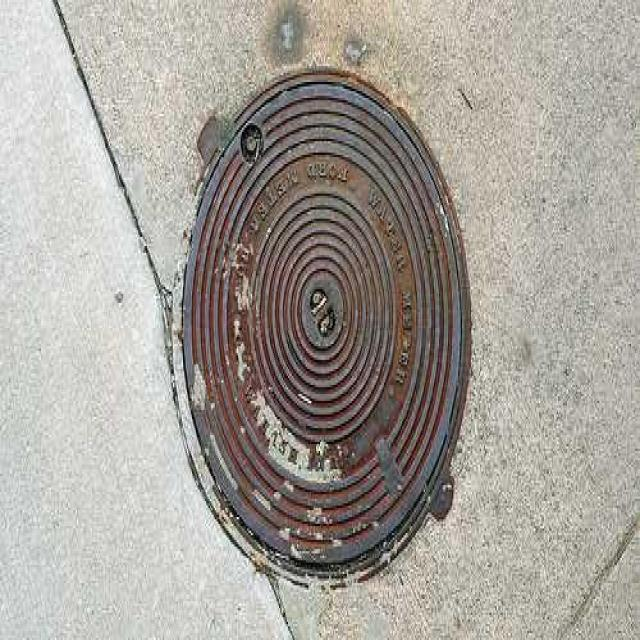manhole: (181, 73, 467, 581)
